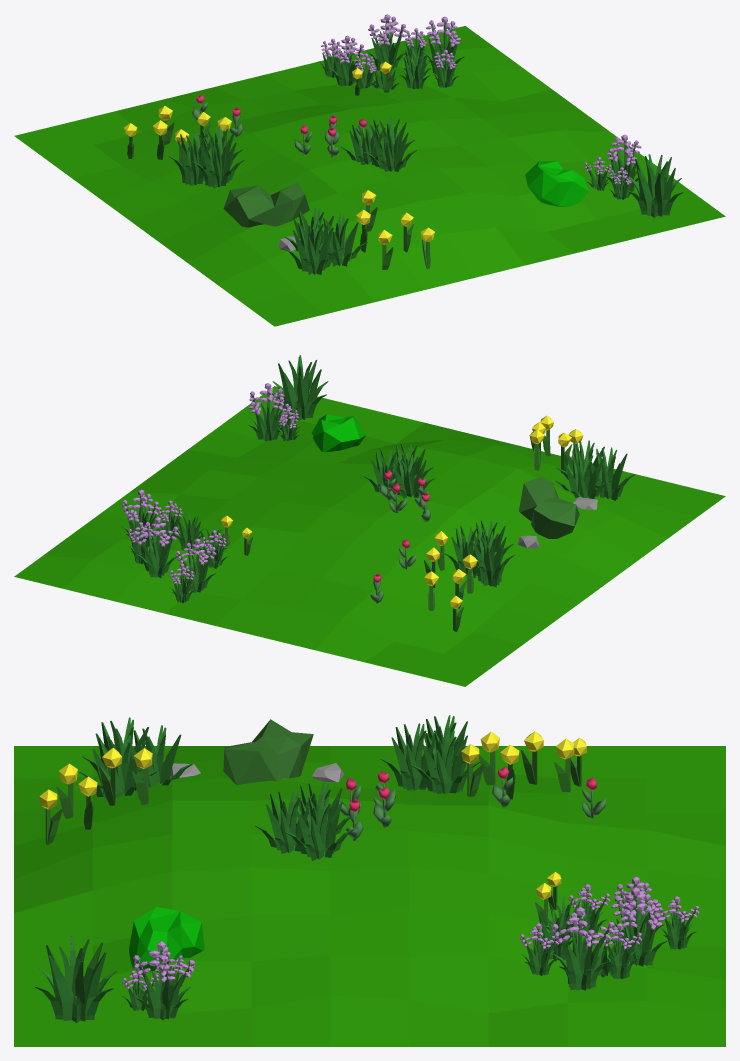
Rendered from MEADOW_FIELD12.fbx.
The picture shows the model from 3 angles, top to bottom: view 1: azimuth 30°, elevation 25°; view 2: azimuth 150°, elevation 25°; view 3: azimuth 270°, elevation 25°; orthographic projection. The views are drawn at different scales.
Visible parts, largest first — view 1: Grid.005; view 2: Grid.005; view 3: Grid.005.
Boxes of the visible parts, x1,y1,x2,y2 form: Grid.005: [14, 14, 725, 326]; Grid.005: [14, 355, 725, 686]; Grid.005: [14, 715, 725, 1046].
Size of the model in its own units: 1000 by 171 by 1000.
